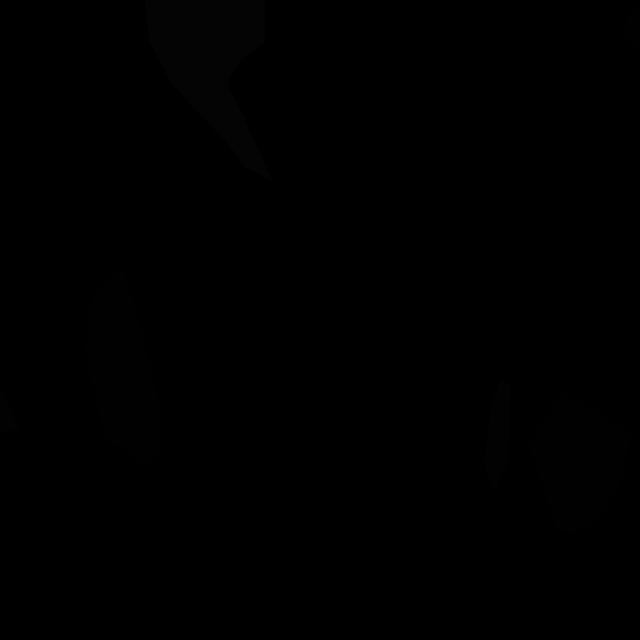cardboard: (484, 379, 511, 491), (0, 387, 20, 432)
rigid_plastic: (85, 271, 162, 473), (528, 390, 631, 534), (626, 3, 640, 48)
soft_plastic: (145, 0, 273, 182)
